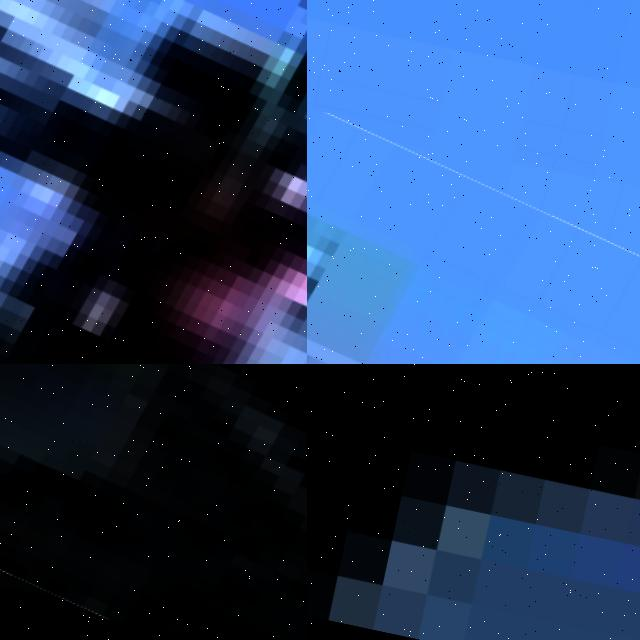drone: (0, 0, 307, 364), (307, 64, 640, 364), (0, 364, 307, 640)
